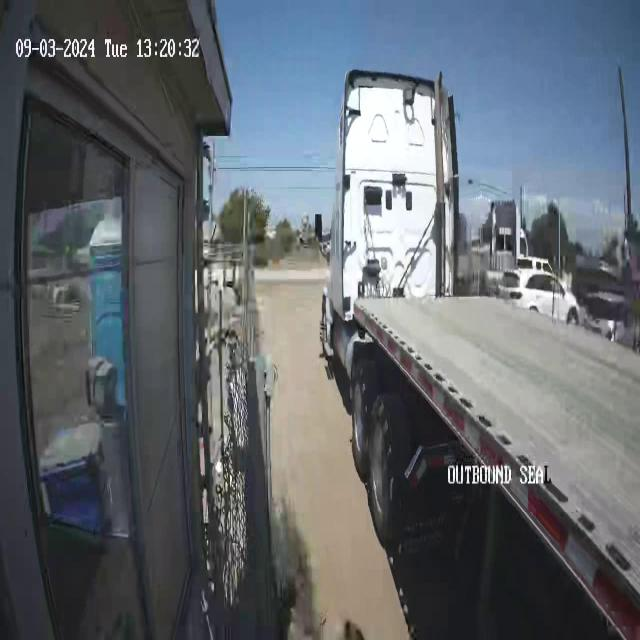BOBTAIL: (314, 67, 638, 637)
